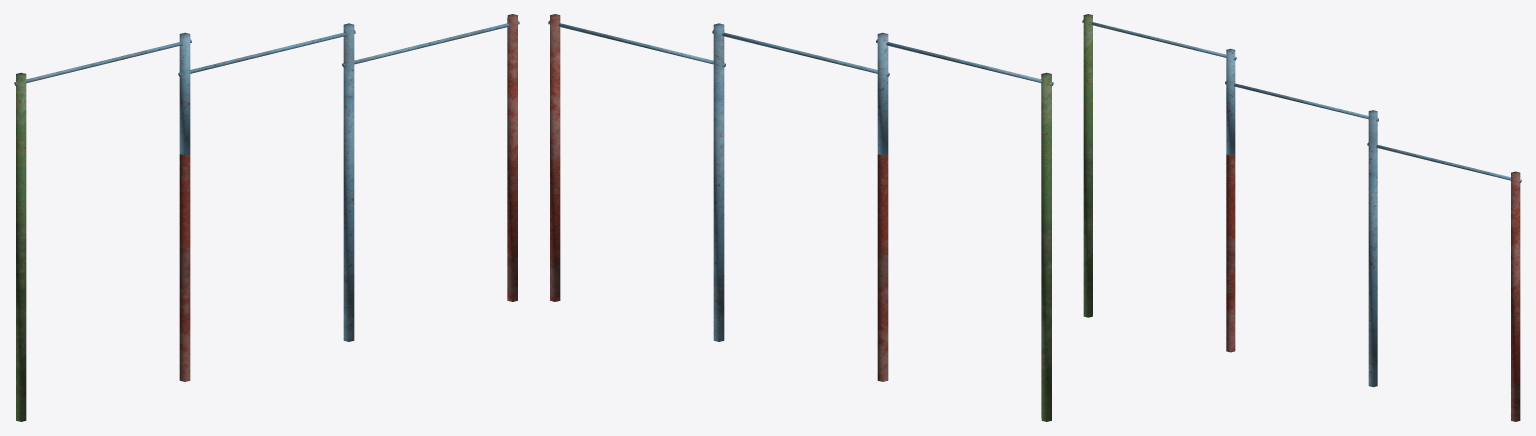
File: playground_horizontal_bars_lod2_web.glb
The picture shows the model from 3 angles, left to right: view 1: azimuth 30°, elevation 25°; view 2: azimuth 150°, elevation 25°; view 3: azimuth 330°, elevation 25°; orthographic projection. The views are drawn at different scales.
Parts seen in each view (by area): view 1: HorizontalBars_Mesh; view 2: HorizontalBars_Mesh; view 3: HorizontalBars_Mesh.
Boxes of the visible parts, <box> form: HorizontalBars_Mesh: <box>14,14,519,421</box>; HorizontalBars_Mesh: <box>548,14,1053,421</box>; HorizontalBars_Mesh: <box>1082,14,1521,421</box>.
Size of the model in its own units: 4.3 by 2.81 by 0.078.
Materials: 3 (3 with a texture image).
